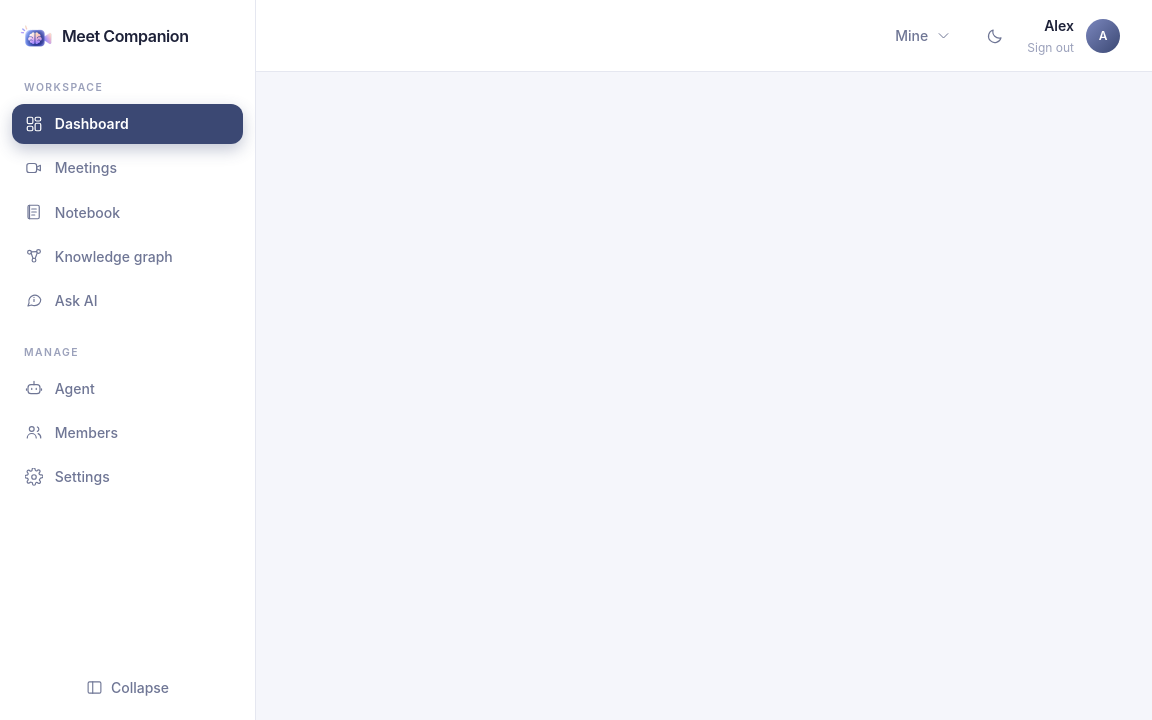
Test: joining a workspace from the picker › a failed join surfaces the message instead of reloading
Click the button titled "Switch workspace" at (923, 36), box [879,15,967,56]
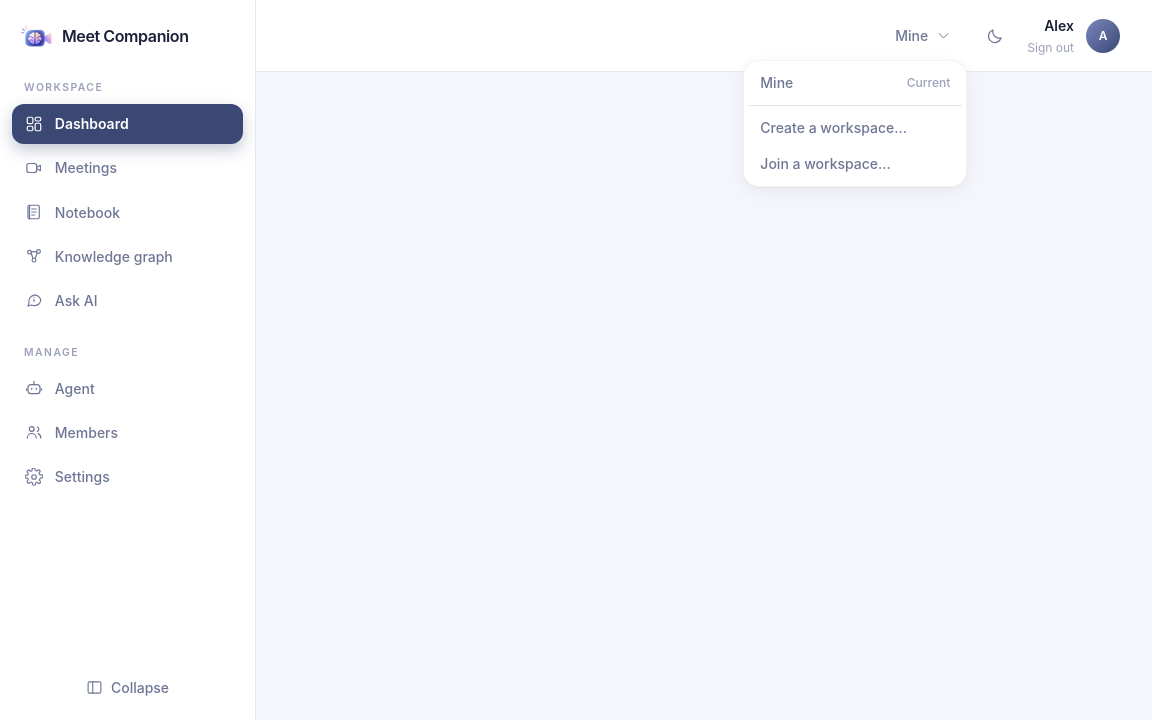
Click the button "Join a workspace…" at (855, 164), box [748,146,962,182]
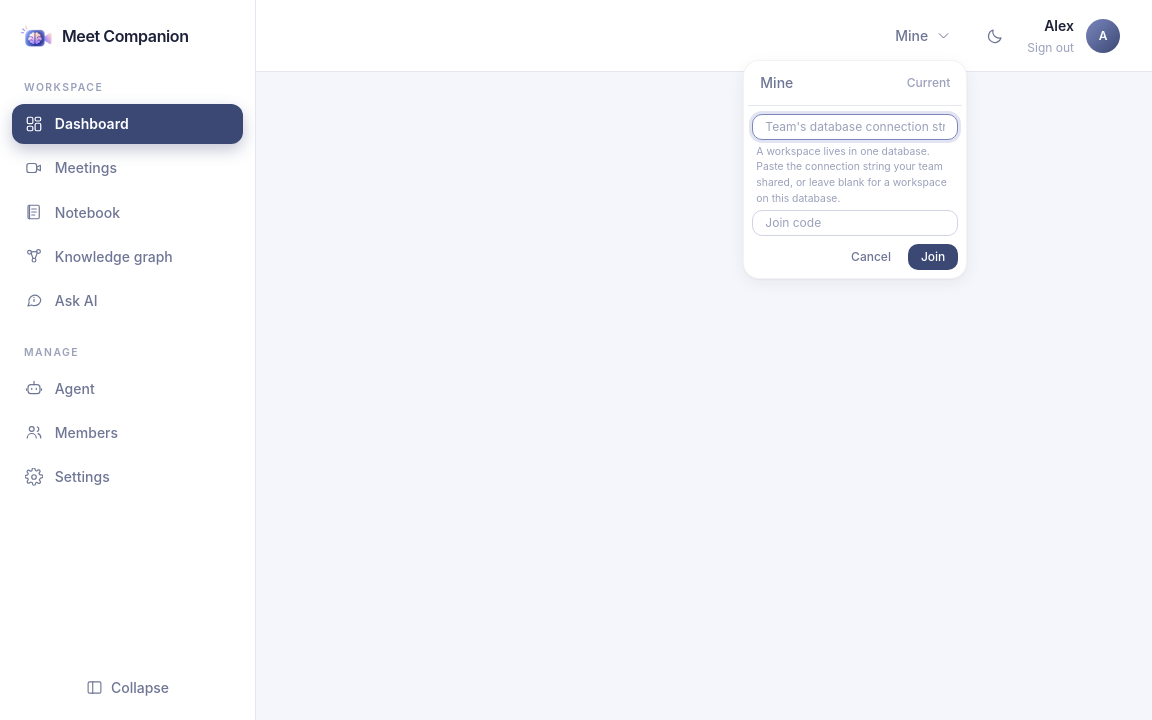
Type "nope" into the field named "Workspace join code" at (855, 223), box [752,210,958,236]
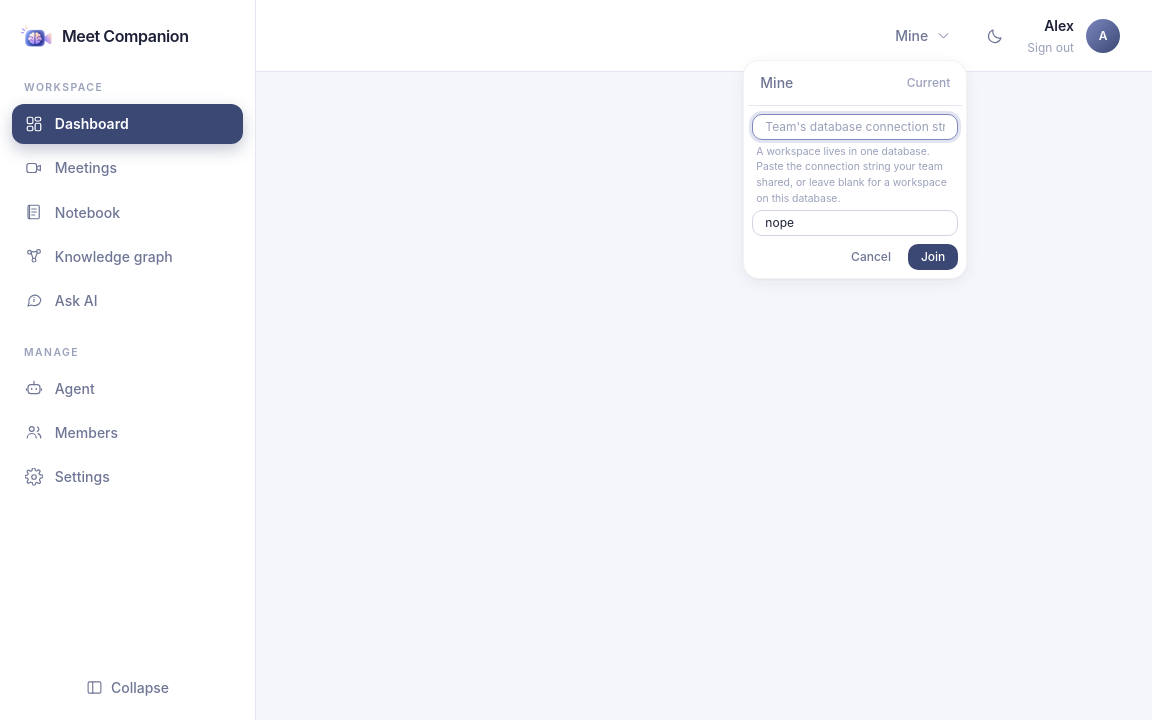
Click the button "Join" at (933, 257), box [908,244,958,270]
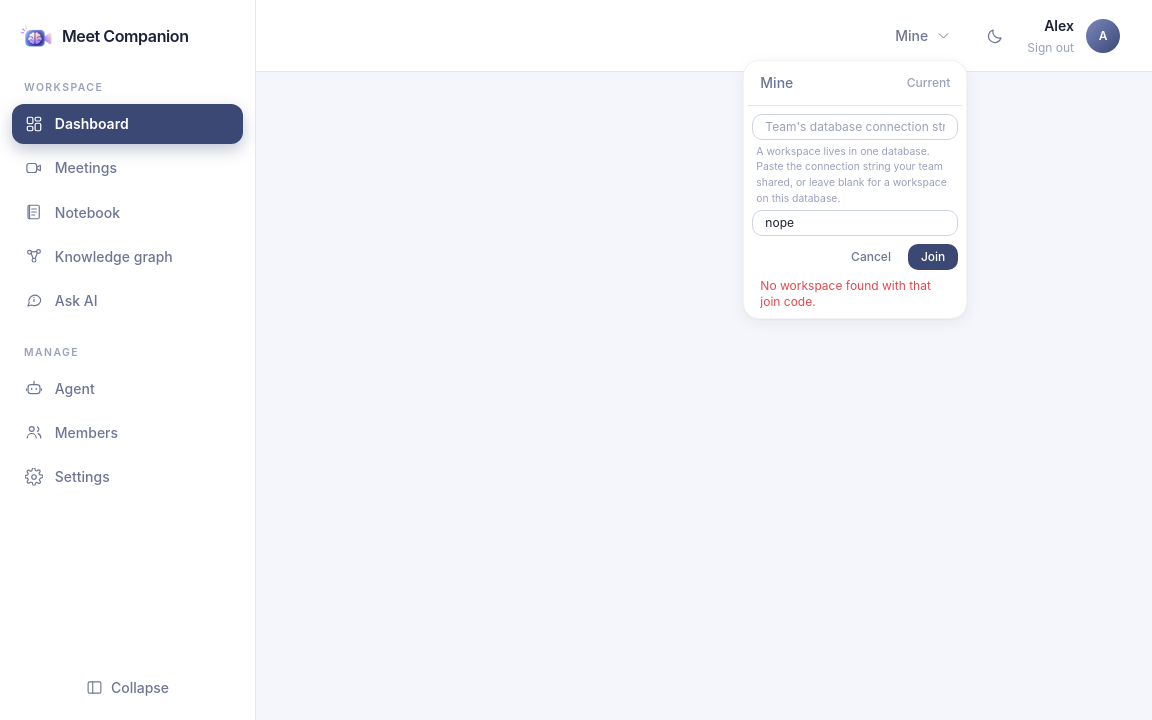
Result: the text "No workspace found with that join code." is shown at [760,278,931,309]
